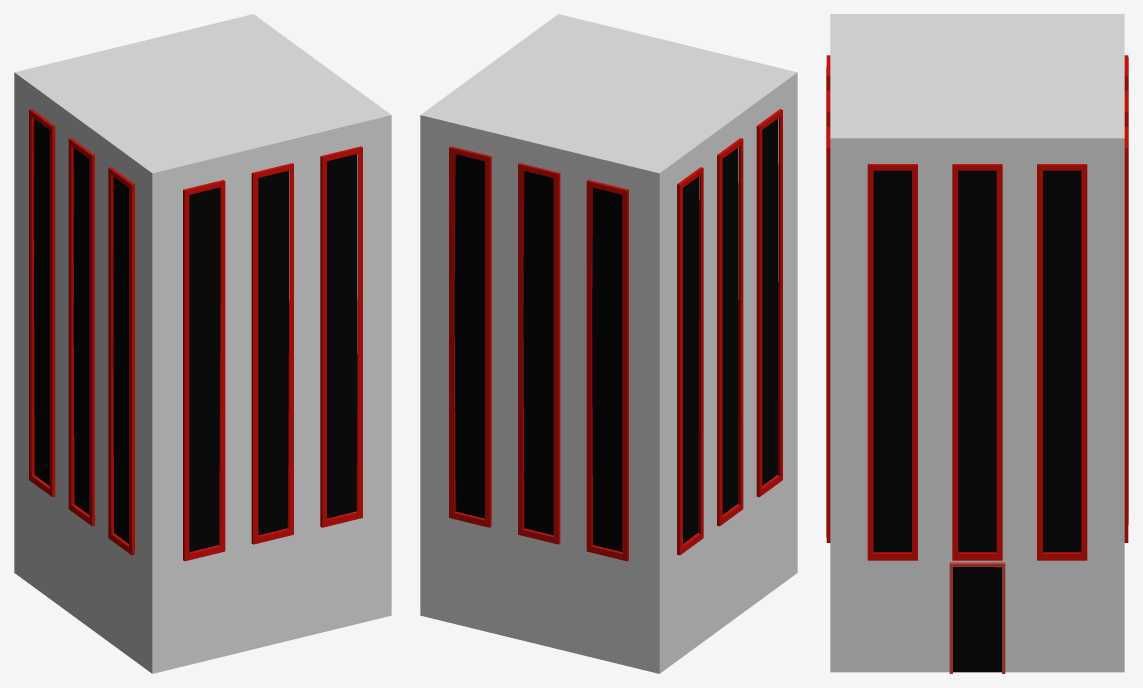
Rendered from skyscraper.glb.
3 views of the same model, side by side, from view 1: azimuth 30°, elevation 25°; view 2: azimuth 150°, elevation 25°; view 3: azimuth 270°, elevation 25° (orthographic). The views are drawn at different scales.
Parts seen in each view (by area): view 1: Cube, Cube.004, Cube.002, Cube.001, Cube.012, Cube.013, Cube.014; view 2: Cube, Cube.005, Cube.003, Cube.006, Cube.014, Cube.013, Cube.012; view 3: Cube, Cube.008, Cube.009, Cube.010, Cube.001, Cube.006, Cube.007.
Part boxes in pixels (x1,y1,x2,y2): Cube: (14,14,391,673); Cube.004: (251,163,293,544); Cube.002: (183,180,225,561); Cube.001: (320,146,362,527); Cube.012: (29,109,55,497); Cube.013: (68,138,94,526); Cube.014: (108,167,134,555); Cube: (420,14,797,673); Cube.005: (518,163,560,544); Cube.003: (586,180,628,561); Cube.006: (449,146,491,527); Cube.014: (756,109,782,497); Cube.013: (717,138,743,526); Cube.012: (677,167,703,555); Cube: (830,14,1124,672); Cube.008: (952,164,1002,560); Cube.009: (867,164,917,560); Cube.010: (1037,164,1087,560); Cube.001: (826,126,830,542); Cube.006: (1124,126,1128,542); Cube.007: (949,562,1005,673).
Bounding box in the file's own units: 4.11 × 8 × 4.11.
